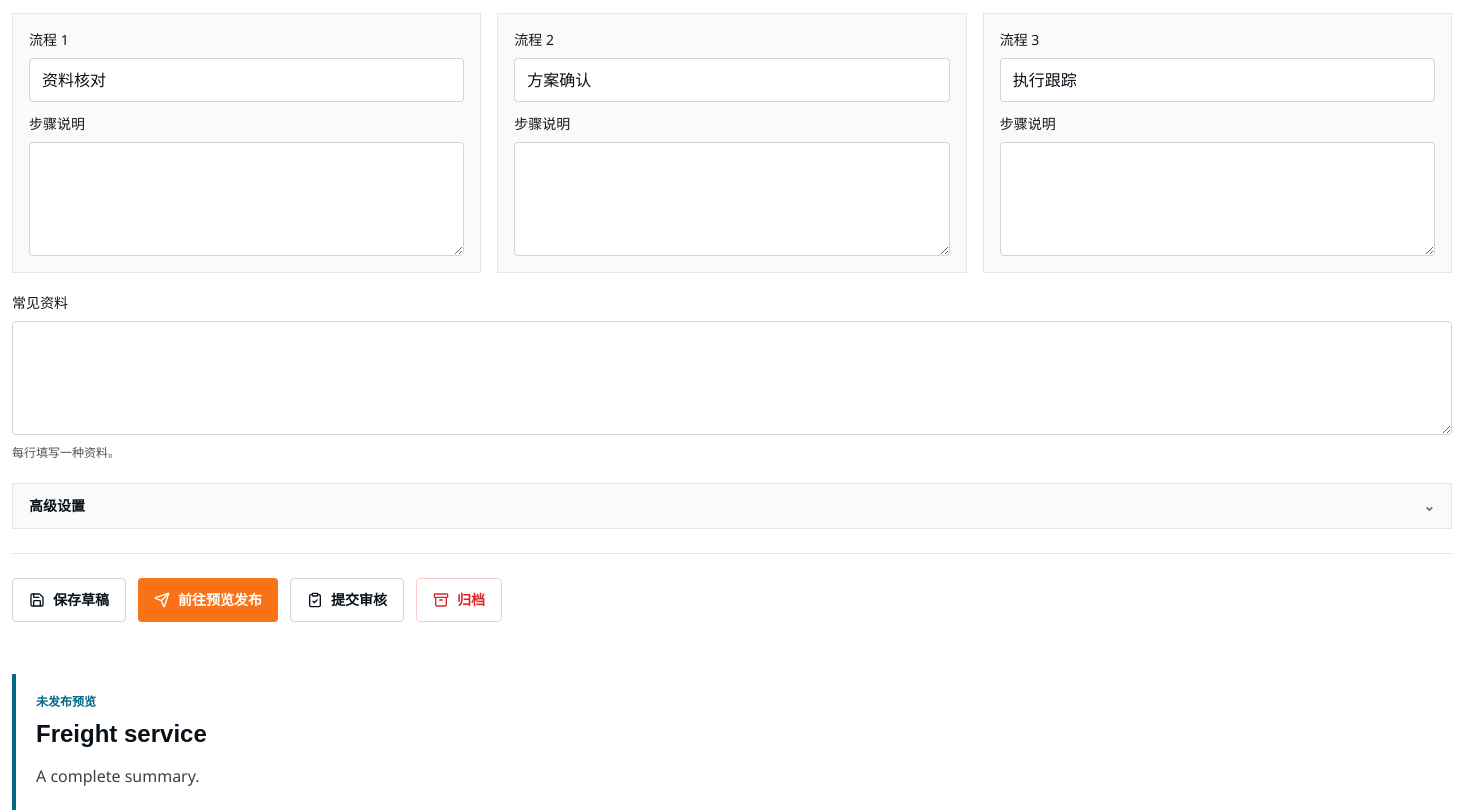
Test: ContentEditor › submits the current saved version for review
(page scrolled)
Click the button "提交审核".
click(347, 600)  # box left=290, top=578, right=404, bottom=622
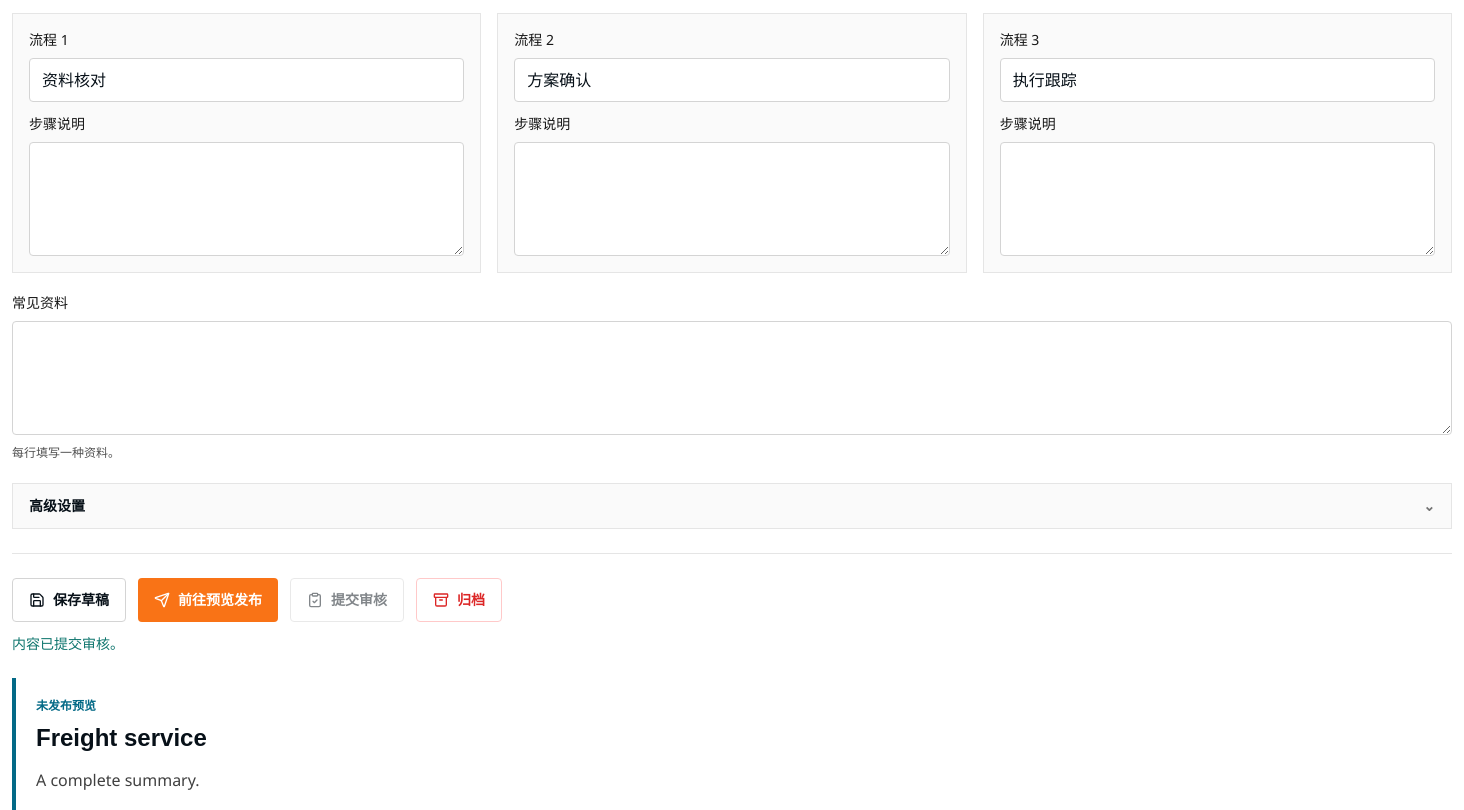
expect the text "内容已提交审核。" is shown: met, box left=12, top=634, right=124, bottom=653
